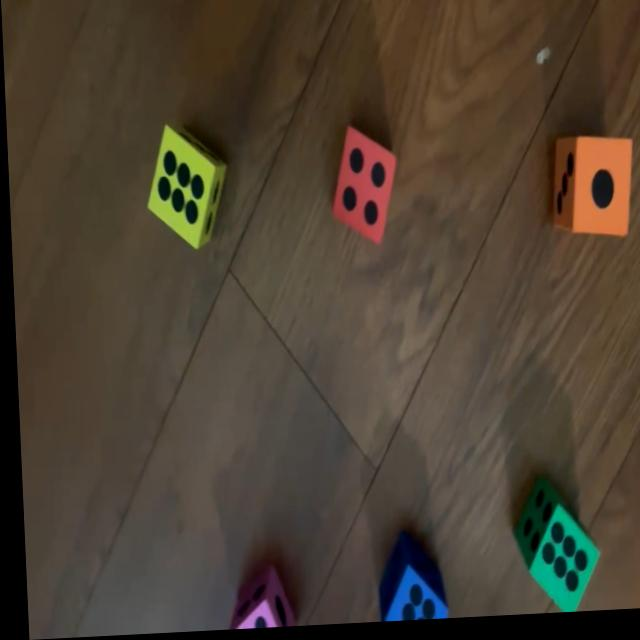cube: (508, 482, 594, 620), (326, 129, 396, 250), (368, 532, 441, 625)
